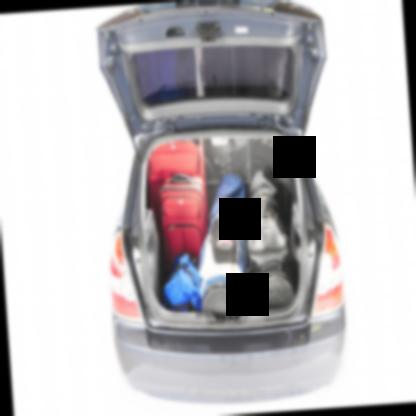backpack: (200, 173, 249, 317), (162, 254, 201, 313)
handbag: (243, 168, 297, 308), (199, 209, 249, 315), (160, 251, 201, 314)
suitcase: (147, 138, 209, 272), (158, 173, 208, 274)
